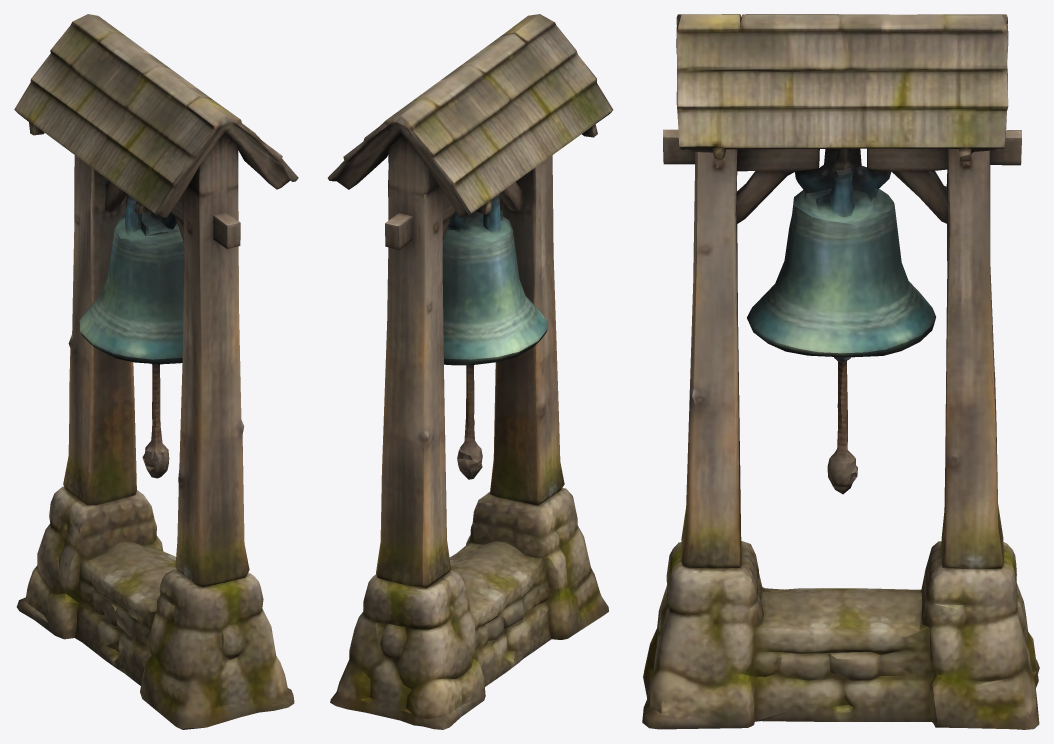
The model's file is prop-bellpost.glb.
3 renders of one model, left to right at view 1: azimuth 30°, elevation 25°; view 2: azimuth 150°, elevation 25°; view 3: azimuth 270°, elevation 25°, orthographic. The views are drawn at different scales.
Visible parts, largest first — view 1: prop-bellpost; view 2: prop-bellpost; view 3: prop-bellpost.
Boxes of the visible parts, x1,y1,x2,y2 form: prop-bellpost: (14,14,298,729); prop-bellpost: (328,14,613,729); prop-bellpost: (642,14,1039,729).
Bounding box in the file's own units: 1.16 × 4.51 × 2.37.
1 material, 1 textured.
